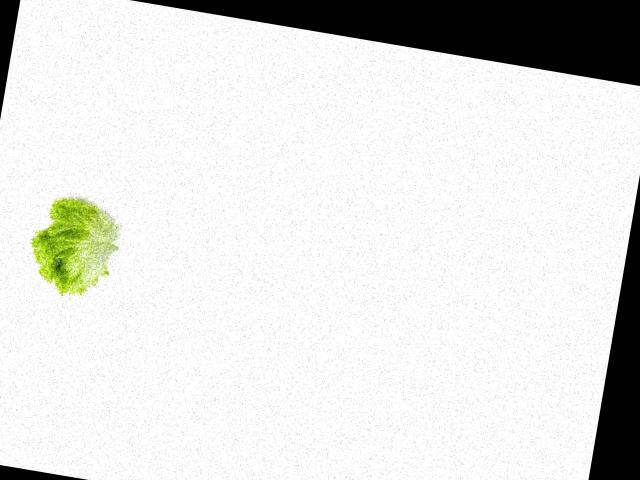lettuce: (26, 185, 128, 305)
